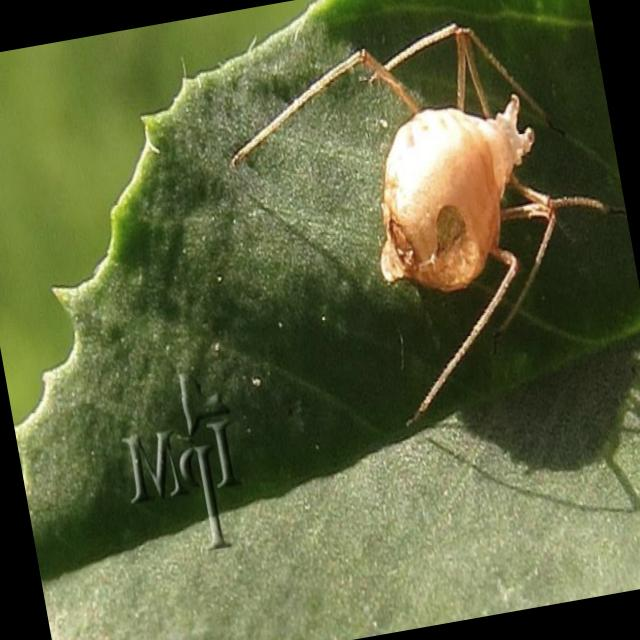Aphid: (240, 32, 613, 432)
